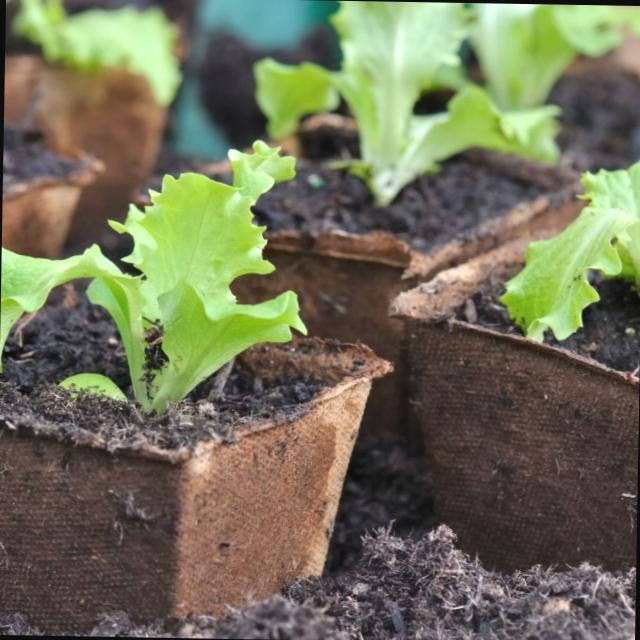verde: (86, 171, 305, 413)
